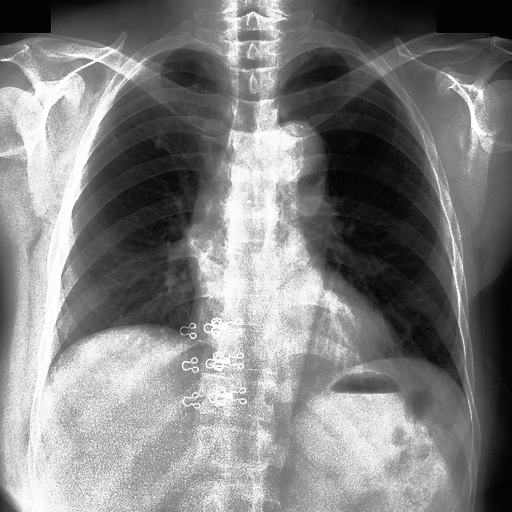Calcification: (283, 37, 349, 79)
Consolidation: (256, 121, 329, 187)
Nodule/Mass: (190, 295, 404, 362)
